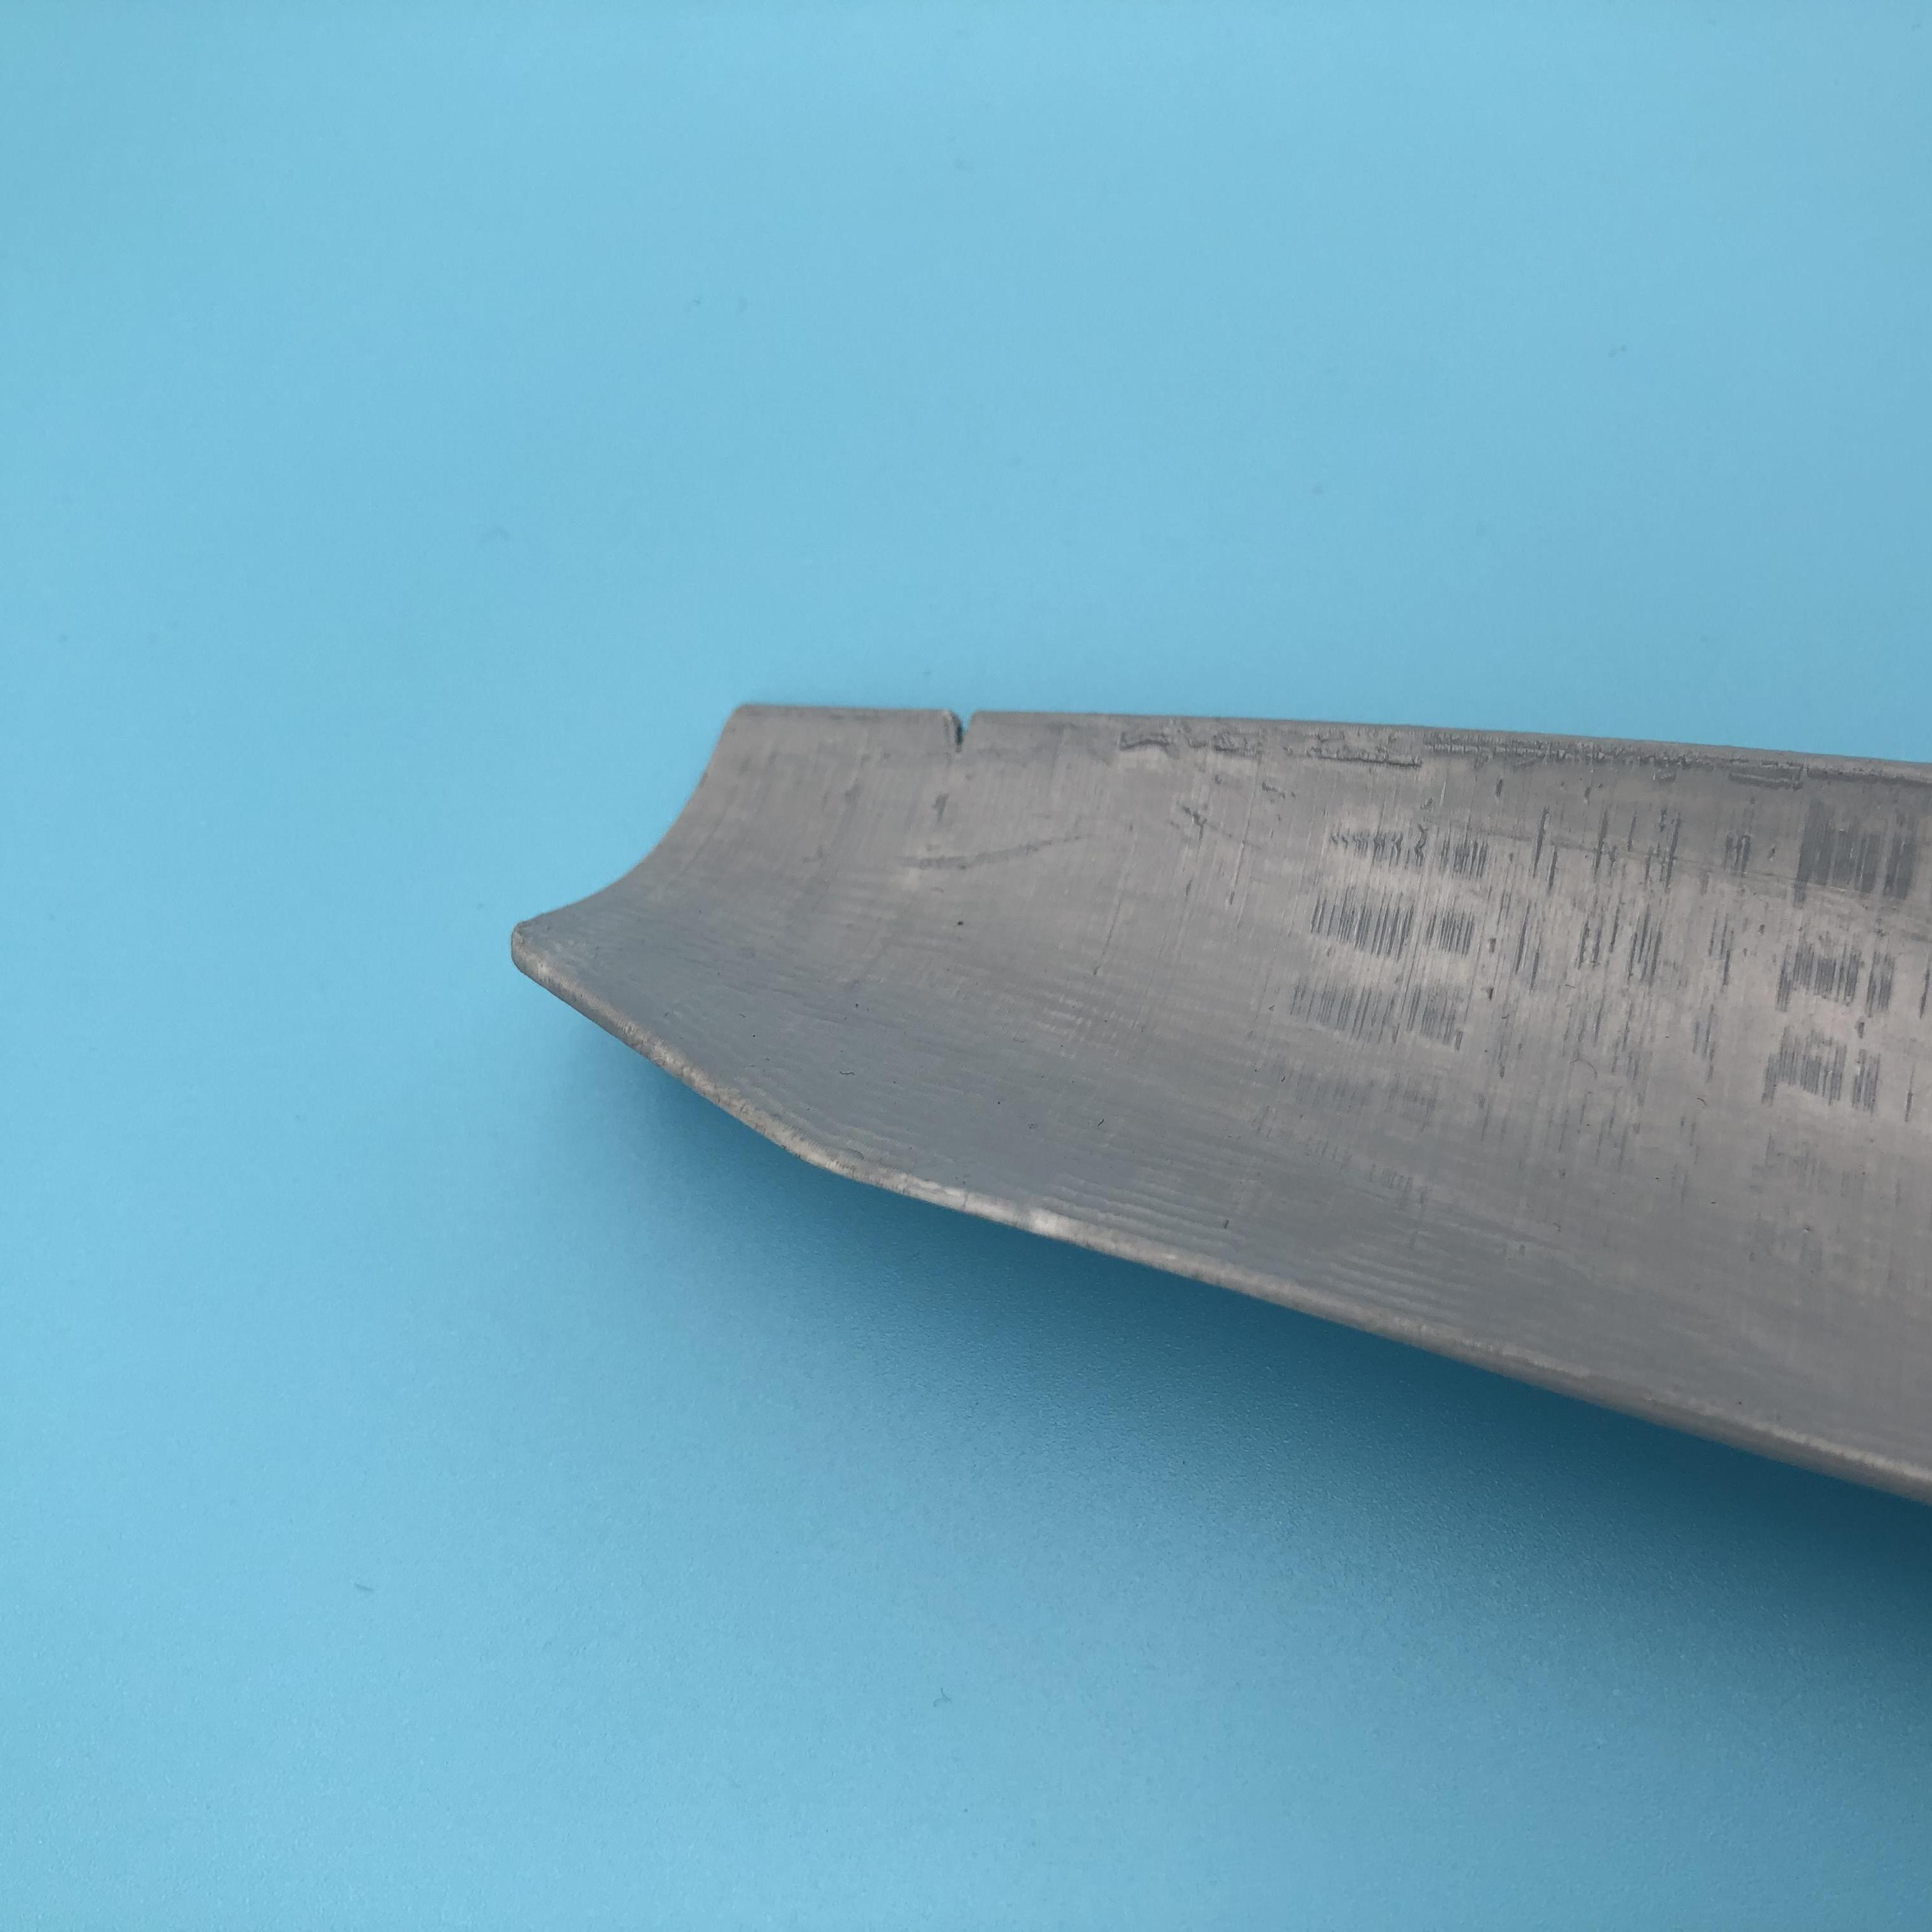groove: (927, 708, 1010, 759)
